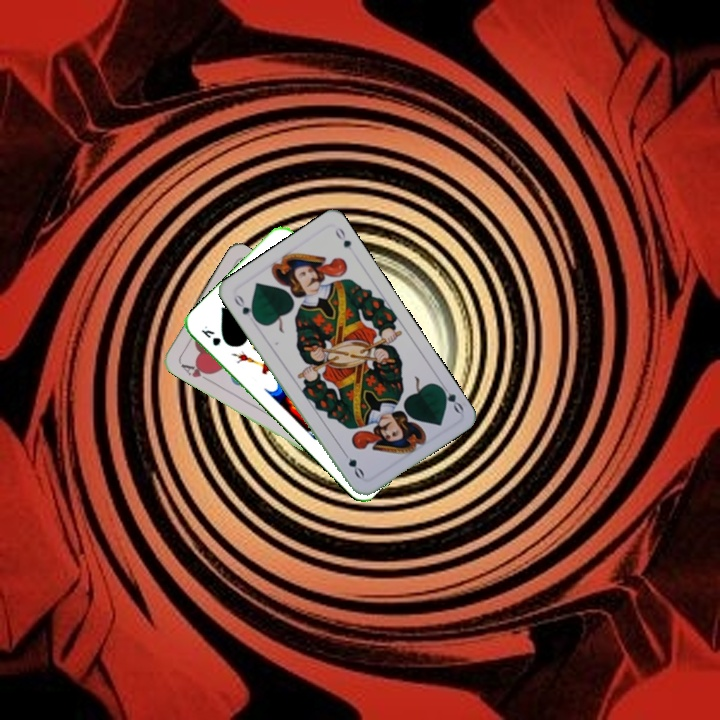GK: (197, 322, 224, 349)
GO: (434, 379, 466, 416), (230, 291, 260, 324)
HA: (176, 358, 215, 385)
